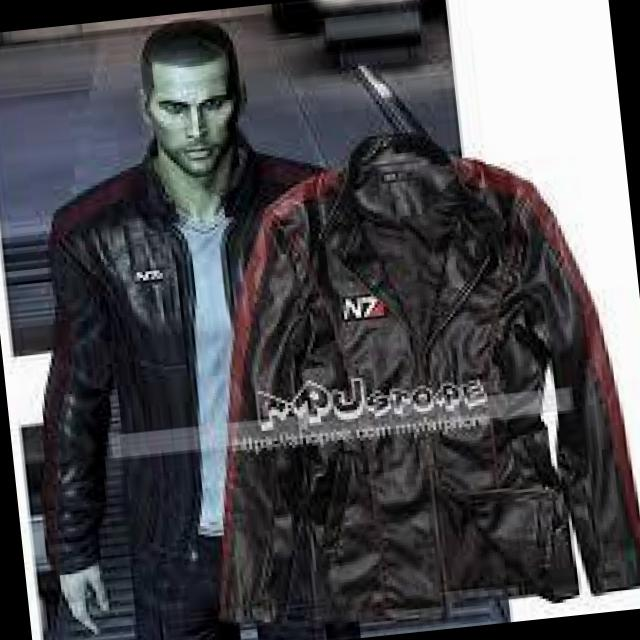jacket: (184, 110, 640, 635), (2, 130, 324, 574)
